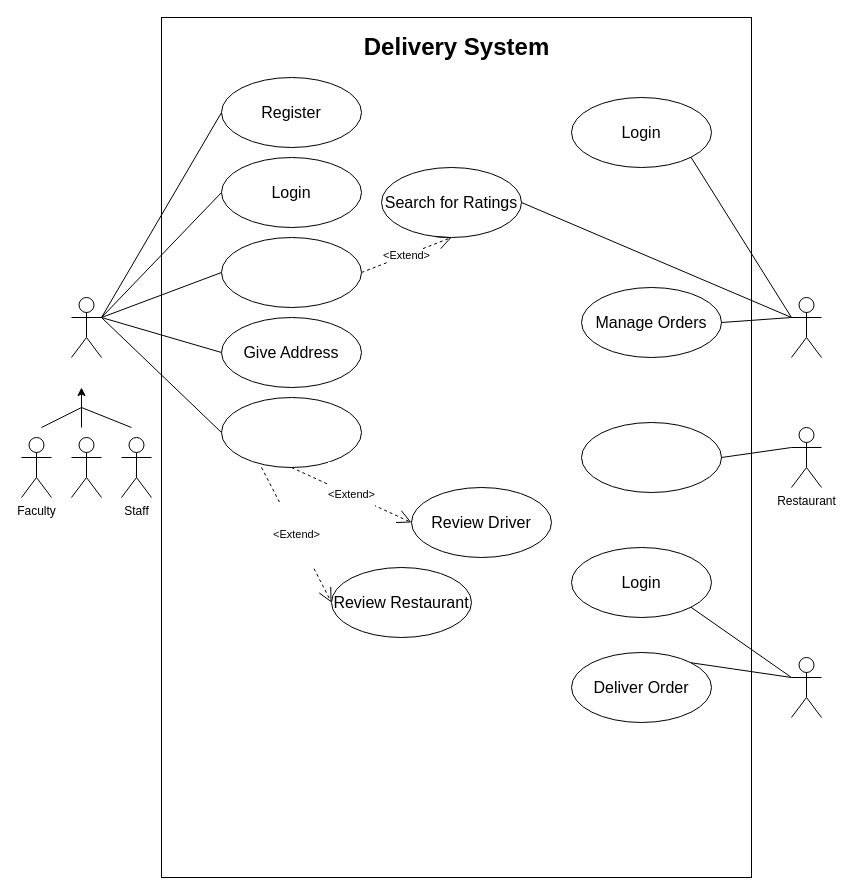
Some shapes in this 859 by 895 pixel diagram are drawn without their labels. The centre of each missing label's shape, as x and y in pixels:
Administrator: the point at 806,327
Cook Order: the point at 651,457
Customer: the point at 86,327
Driver: the point at 806,687
Make Order: the point at 291,432
Select Restraunt: the point at 291,272
Student: the point at 86,467
